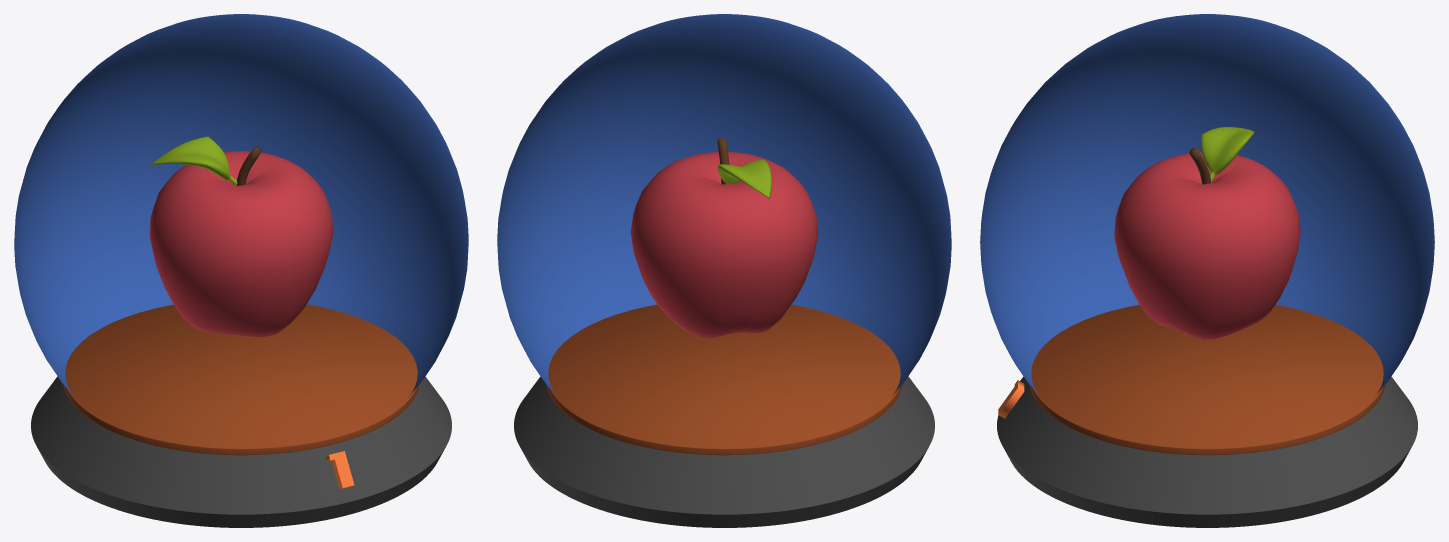
The model's file is Curio_01.glb.
3 renders of one model, left to right at view 1: azimuth 30°, elevation 25°; view 2: azimuth 150°, elevation 25°; view 3: azimuth 270°, elevation 25°, orthographic.
Parts seen in each view (by area): view 1: Sphere.008, Sphere.007, Sphere.006, Cylinder.022, Text.004; view 2: Sphere.008, Sphere.007, Sphere.006, Cylinder.022; view 3: Sphere.008, Sphere.007, Sphere.006, Cylinder.022.
Boxes of the visible parts, <box> form: Sphere.008: <box>14,14,468,397</box>; Sphere.007: <box>63,304,419,455</box>; Sphere.006: <box>31,376,451,527</box>; Cylinder.022: <box>149,136,333,337</box>; Text.004: <box>325,451,354,489</box>; Sphere.008: <box>497,14,951,397</box>; Sphere.007: <box>546,304,902,455</box>; Sphere.006: <box>514,376,934,527</box>; Cylinder.022: <box>630,138,818,338</box>; Sphere.008: <box>980,14,1434,395</box>; Sphere.007: <box>1029,304,1385,455</box>; Sphere.006: <box>997,376,1417,527</box>; Cylinder.022: <box>1114,127,1300,340</box>.
Size of the model in its own units: 4.66 by 4.62 by 4.66.
